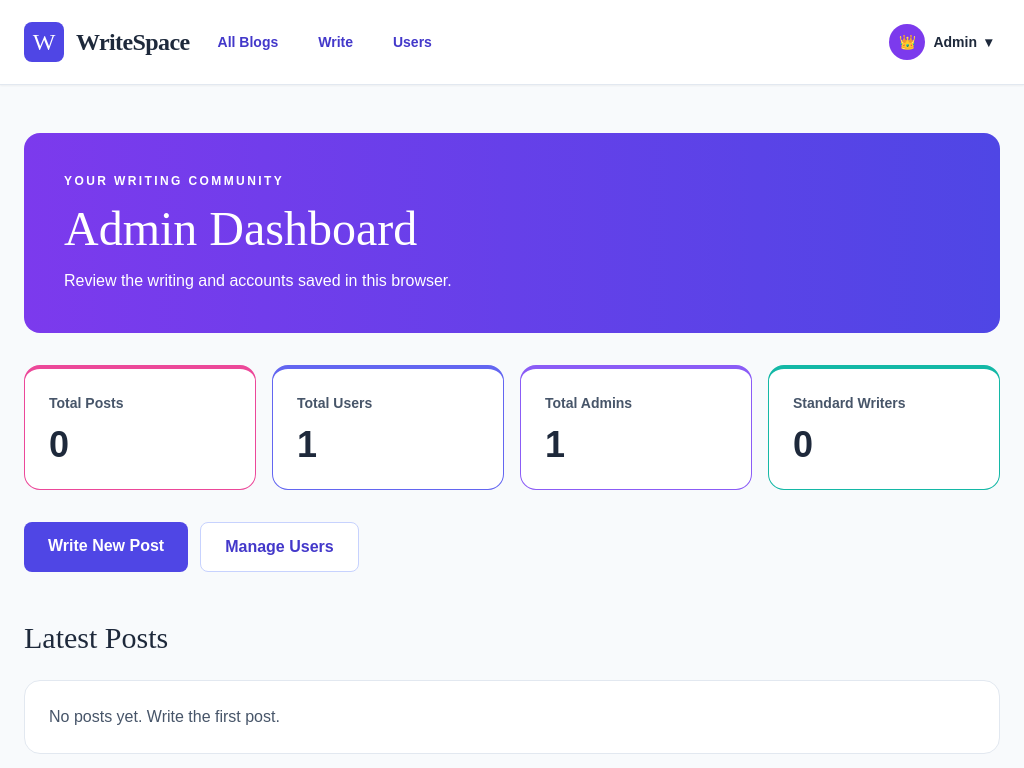
Scenario: shows accurate empty counts and quick actions, links to actual user management and writing
This screenshot has width=1024, height=768.
Expected: the heading "Admin Dashboard" is shown, x1=64 y1=202 x2=417 y2=255
Expected: the text "No posts yet. Write the first post." is shown, x1=24 y1=680 x2=1000 y2=754
What coordinates should you click on to do the following:
click the link "Manage Users"
I would click on:
 (279, 547)
Its box is x1=200 y1=522 x2=359 y2=572.
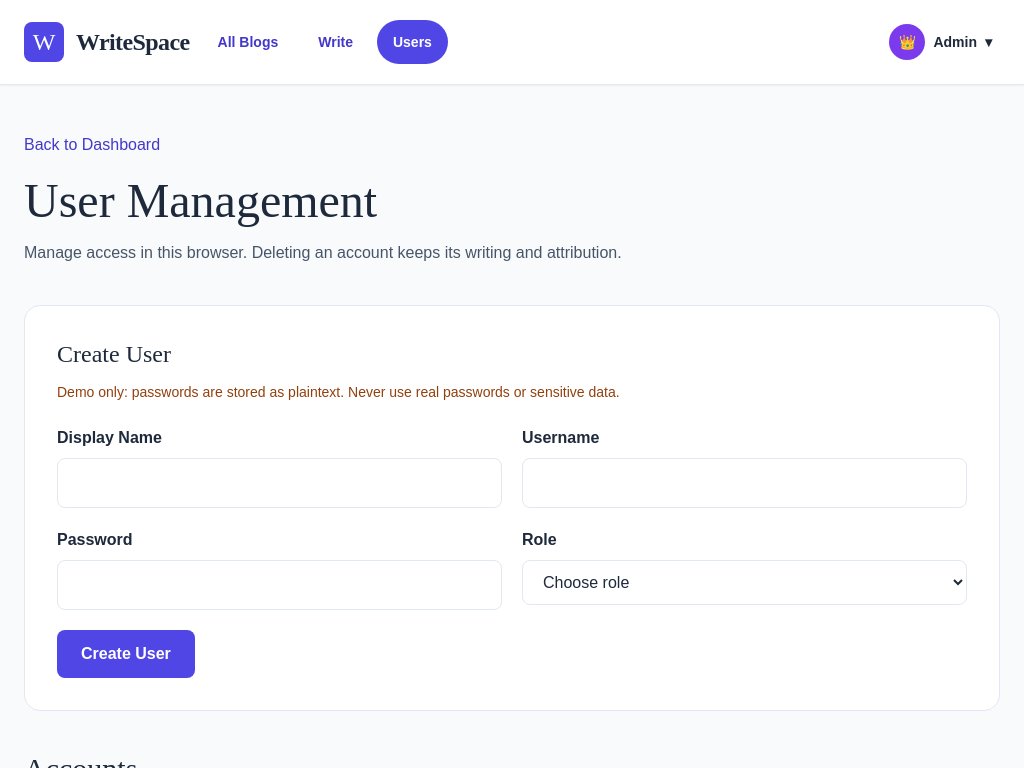
Expected: the heading "User Management" is shown, x1=24 y1=174 x2=377 y2=227
What coordinates should you click on to do the following:
click the link "Back to Dashboard"
I would click on:
 (92, 144)
Its box is x1=24 y1=136 x2=160 y2=153.
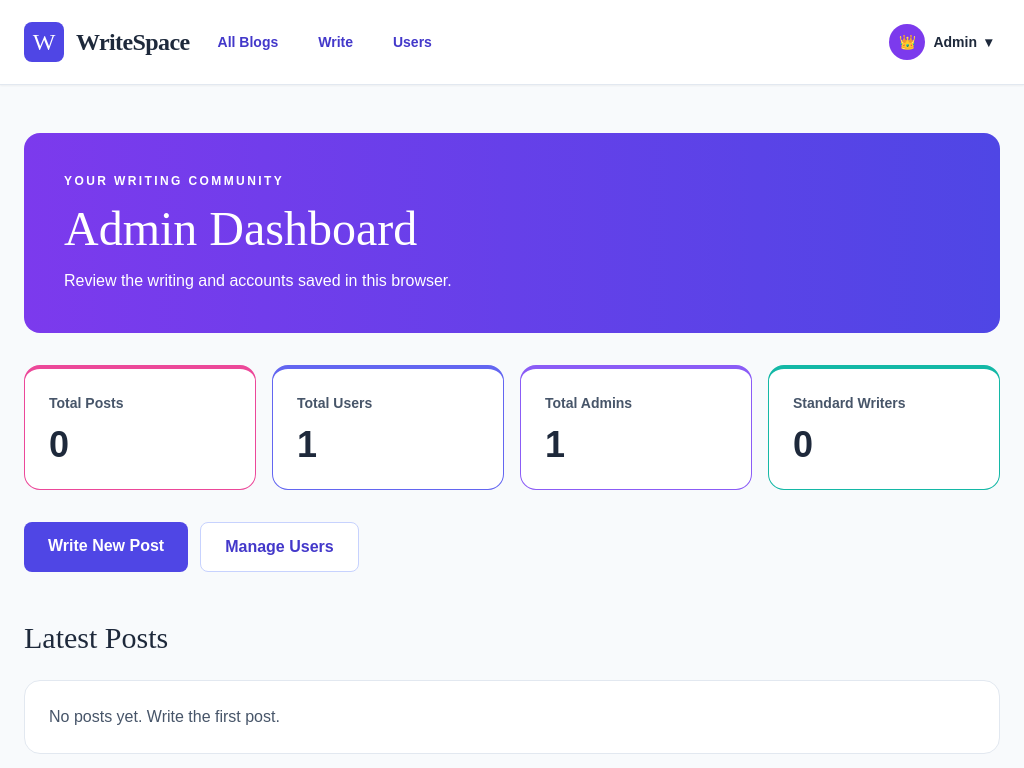
What coordinates should you click on to do the following:
click the link "Write New Post"
I would click on:
 (106, 547)
Its box is x1=24 y1=522 x2=188 y2=572.
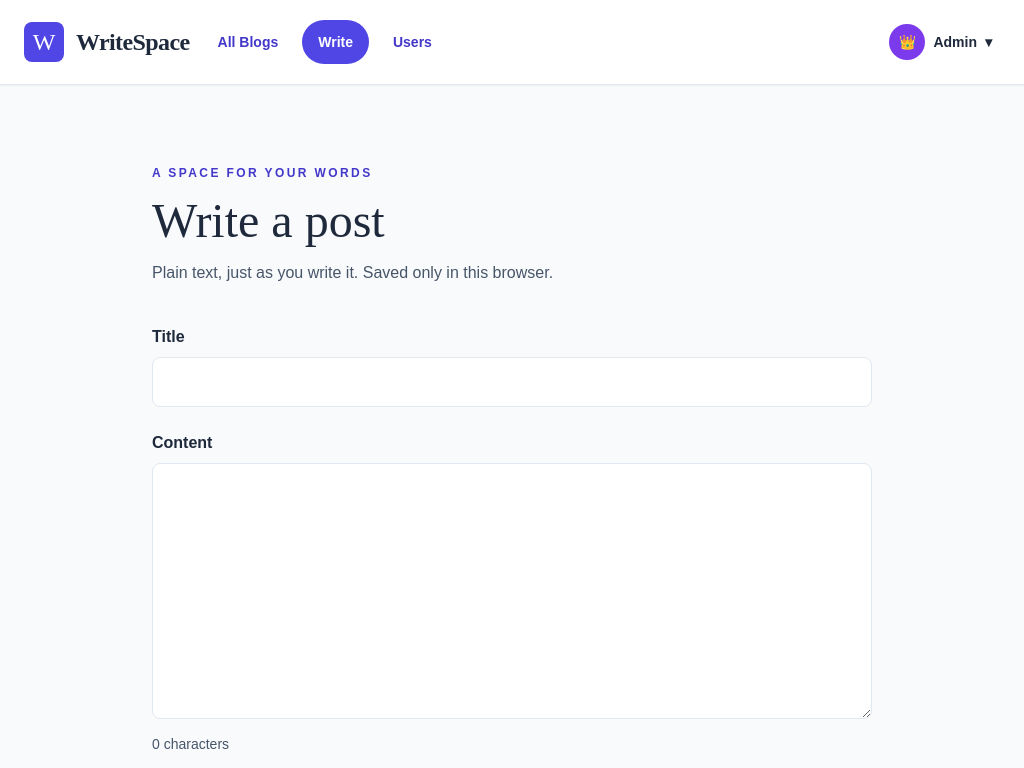
Expected: the heading "Write a post" is shown, x1=152 y1=194 x2=385 y2=247
